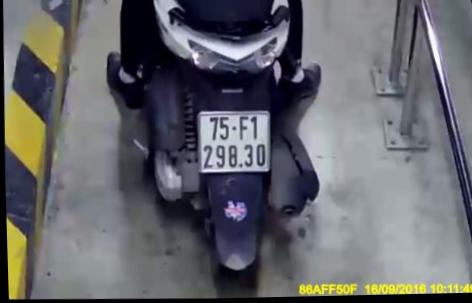LP: (196, 110, 271, 175)
